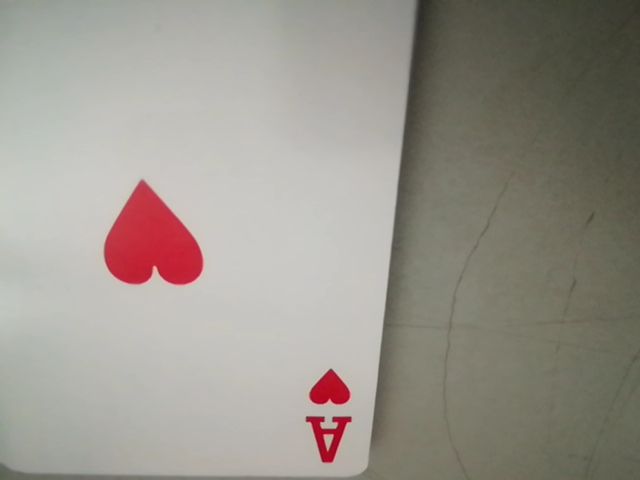hx a: (301, 367, 361, 463)
